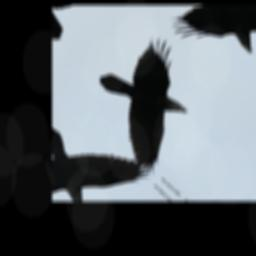Crow: (72, 26, 232, 175)
